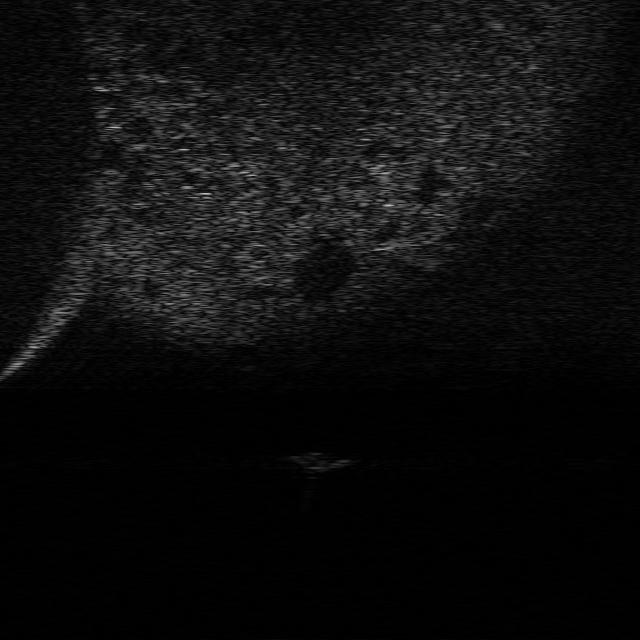cube: (286, 447, 350, 474)
